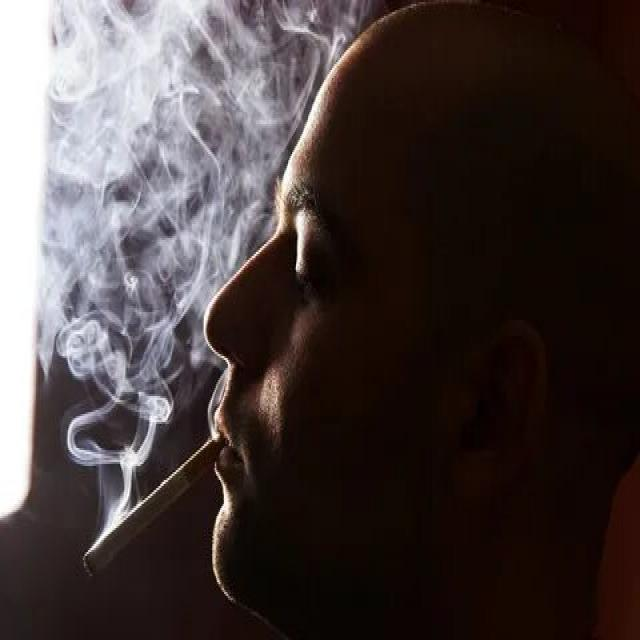smoke: (81, 432, 226, 582)
